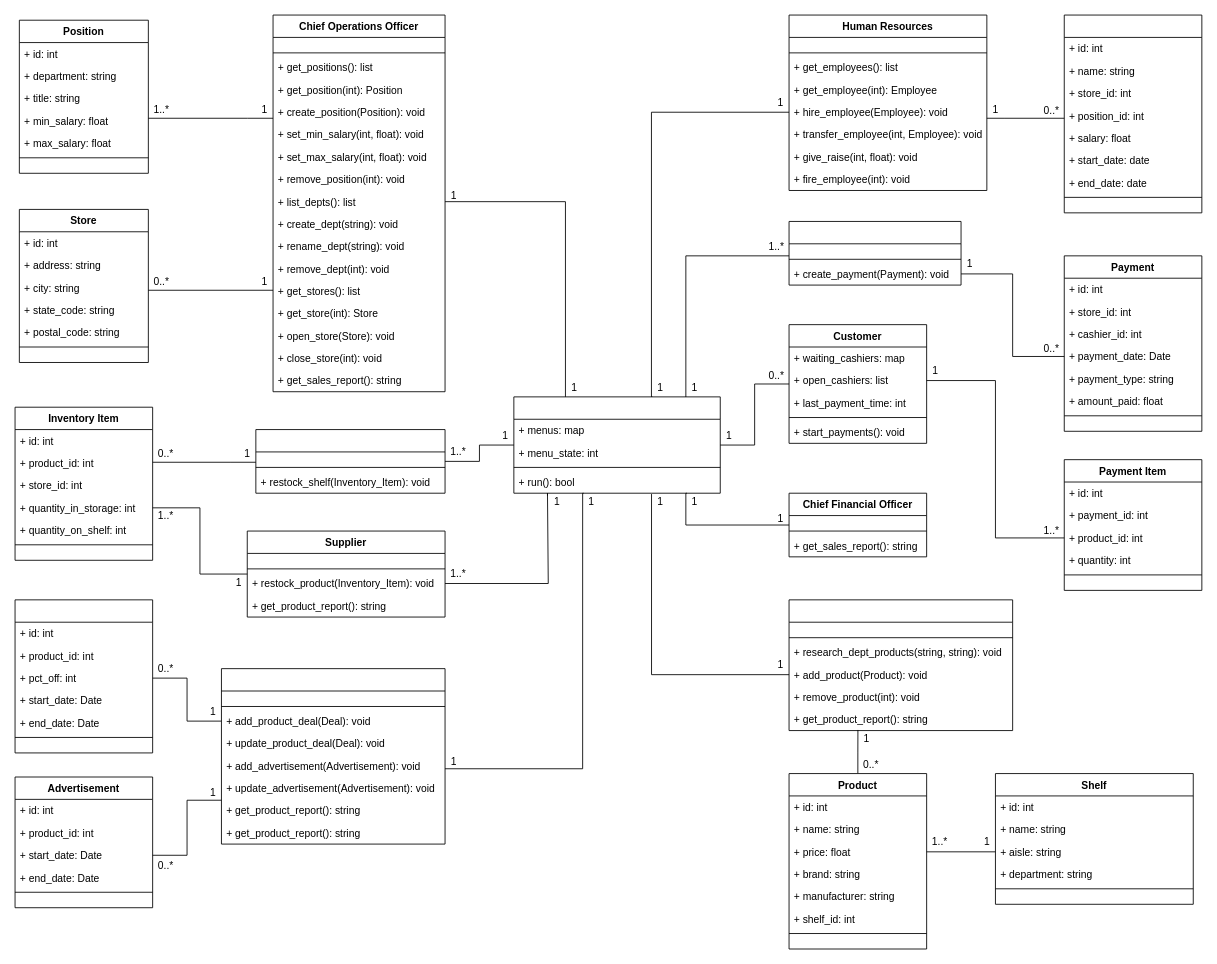
The diagram is 1217 pixels wide and 964 high, and some of its shapes have lost their labels. The shapes that lost their labels are listed below. From the top down, each one's box as (x1, y1, x2, y2) in pixels, then its label:
(1063, 14, 1202, 213): Employee
(788, 221, 961, 285): Cashier
(255, 429, 445, 493): Stock Clerk
(513, 396, 720, 493): System
(14, 599, 153, 753): Deal
(788, 599, 1013, 731): Chief Product Officer
(221, 668, 445, 844): Chief Marketing Officer
